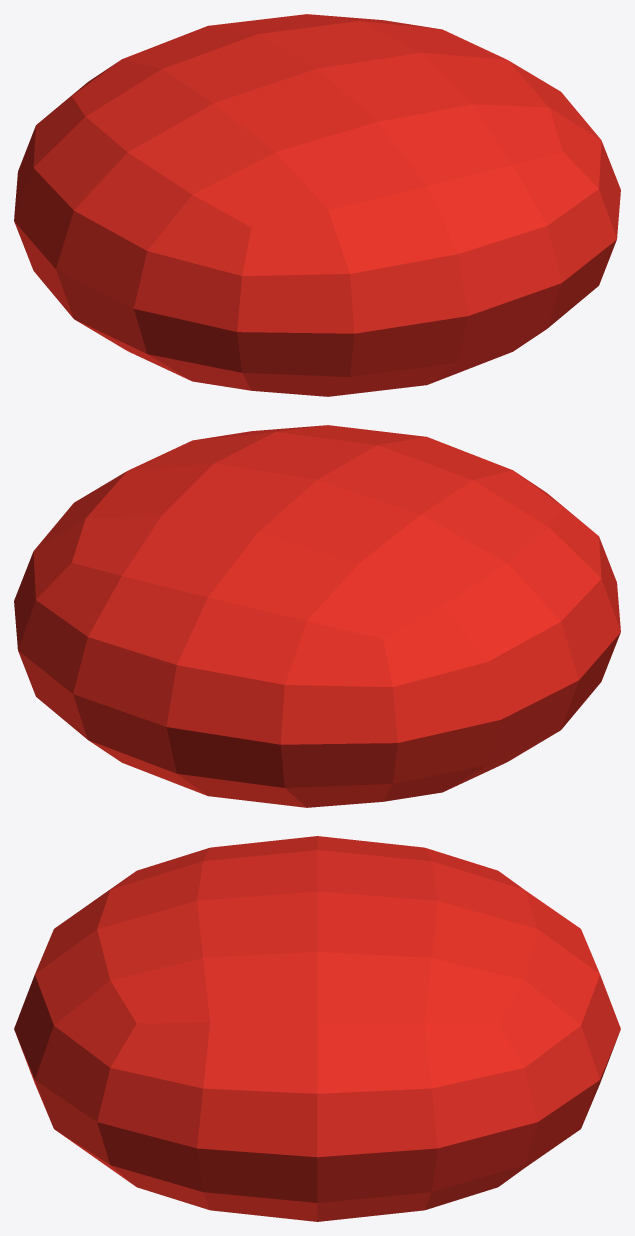
File: Pillow.fbx
3 renders of one model, top to bottom at view 1: azimuth 30°, elevation 25°; view 2: azimuth 150°, elevation 25°; view 3: azimuth 270°, elevation 25°, orthographic.
Parts seen in each view (by area): view 1: Pillow; view 2: Pillow; view 3: Pillow.
Boxes of the visible parts, x1,y1,x2,y2 form: Pillow: (14,14,620,396); Pillow: (14,425,620,807); Pillow: (14,836,620,1221).
Size of the model in its own units: 168 by 83.95 by 168.
